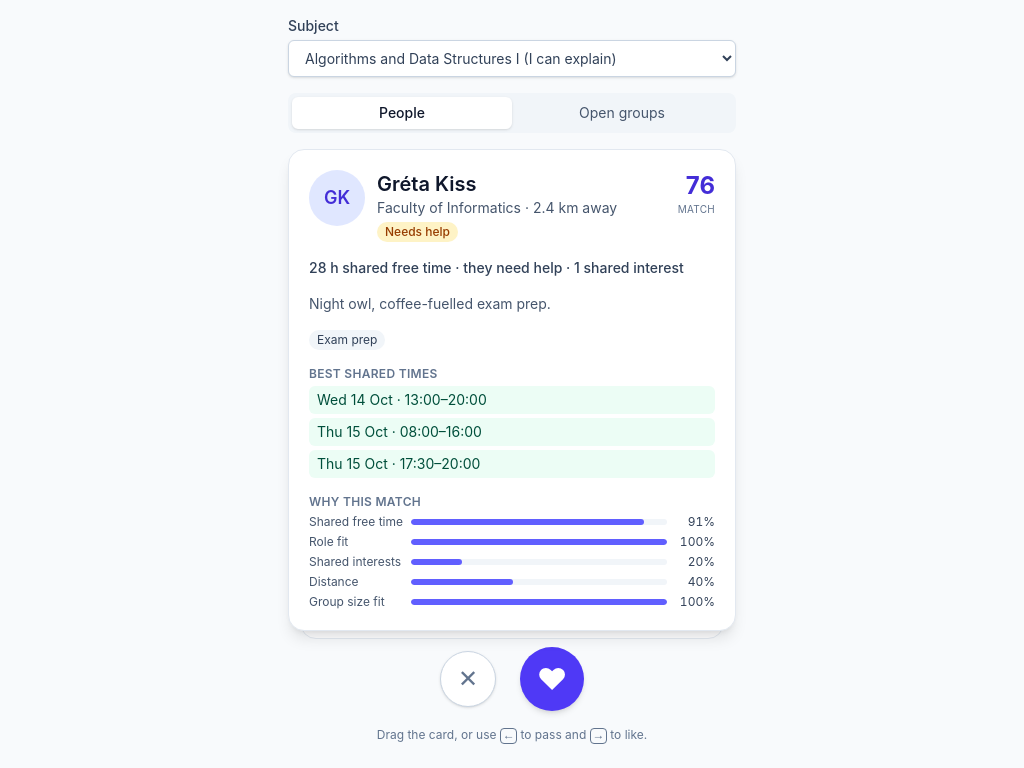
Test: Match modal › shows both people and the first shared slot, focused on "Go to group"
This screenshot has width=1024, height=768.
(page scrolled)
What coordinates should you click on to do the following:
click the button named "Pass"
I would click on:
 (468, 679)
Its box is left=440, top=651, right=496, bottom=707.
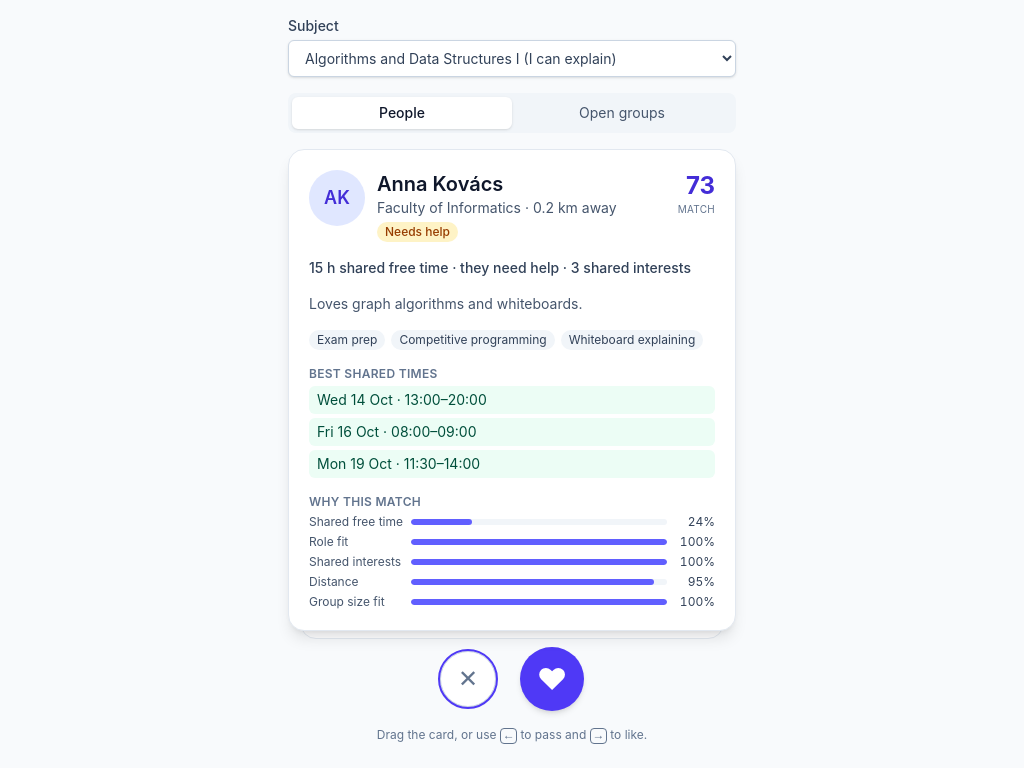
What coordinates should you click on to do the following:
click the button named "Like"
I would click on:
 (552, 679)
Its box is left=520, top=647, right=584, bottom=711.
(page scrolled)
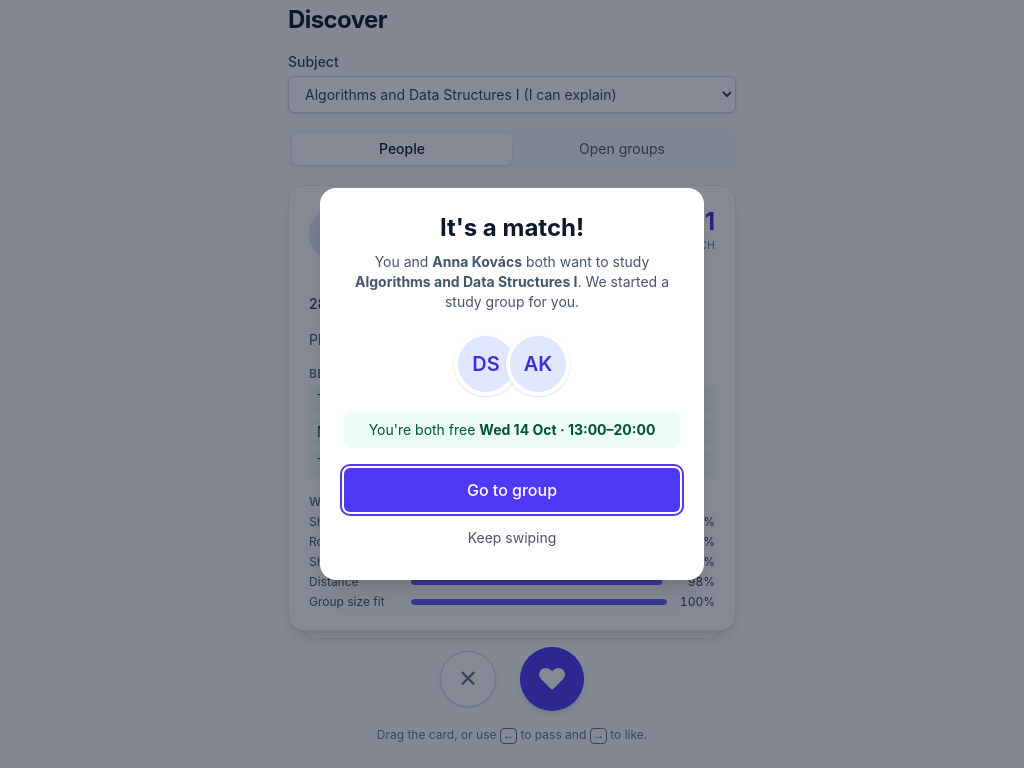
Now the picture named "Demo Student" is shown, box left=454, top=332, right=518, bottom=396
Now the picture named "Anna Kovács" is shown, box left=506, top=332, right=570, bottom=396
Now the text "You're both free Wed 14 Oct · 13:00–20:00" is shown, box left=344, top=412, right=680, bottom=448
